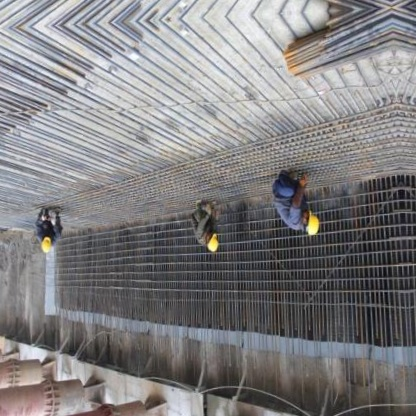yellow: (304, 208, 321, 240), (205, 231, 221, 256), (39, 236, 53, 256)
